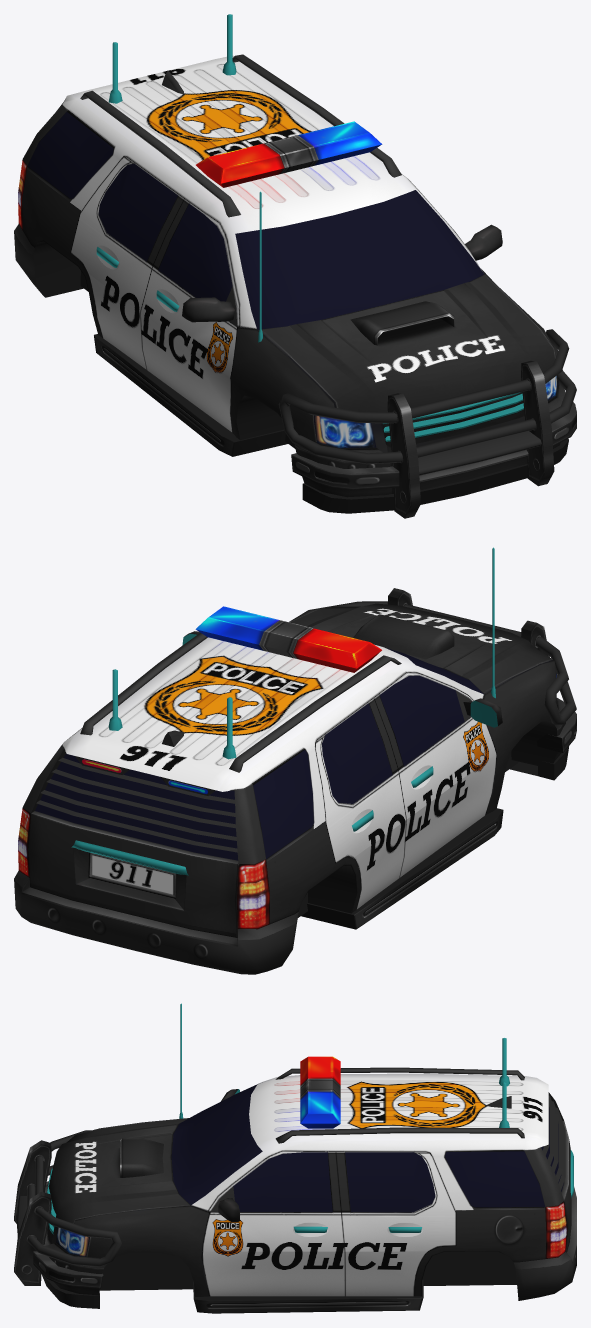
Rendered from poli.FBX.
3 views of the same model, one above another, from view 1: azimuth 30°, elevation 25°; view 2: azimuth 150°, elevation 25°; view 3: azimuth 270°, elevation 25° (orthographic). The views are drawn at different scales.
Parts seen in each view (by area): view 1: policecar; view 2: policecar; view 3: policecar.
Part boxes in pixels (x1,y1,x2,y2): policecar: (14, 14, 576, 518); policecar: (14, 547, 576, 974); policecar: (14, 1003, 576, 1313).
Bounding box in the file's own units: 0.3195 × 0.2593 × 0.6236.
